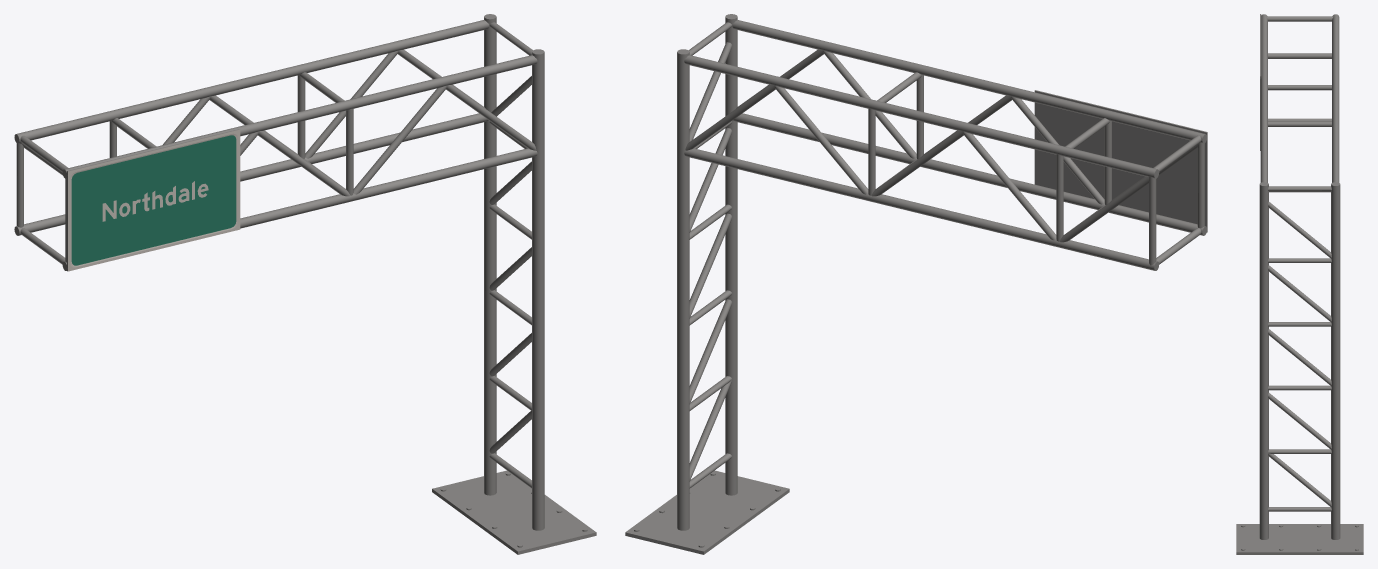
The model's file is town-sign.glb.
3 views of the same model, side by side, from view 1: azimuth 30°, elevation 25°; view 2: azimuth 150°, elevation 25°; view 3: azimuth 270°, elevation 25° (orthographic). The views are drawn at different scales.
Parts seen in each view (by area): view 1: TownSign; view 2: TownSign; view 3: TownSign.
Part boxes in pixels (x1,y1,x2,y2): TownSign: (14,14,596,554); TownSign: (625,14,1207,554); TownSign: (1236,14,1363,554).
Bounding box in the file's own units: 5.98 × 5.35 × 1.74.
Materials: 1 (1 with a texture image).
